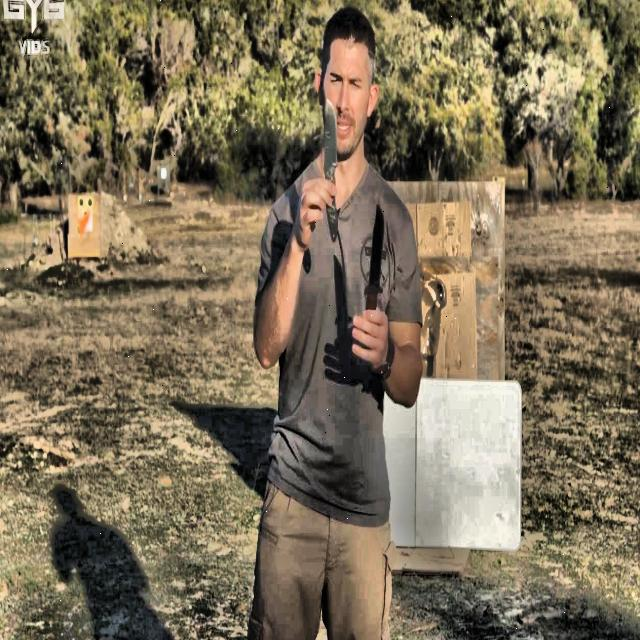knife: (324, 100, 339, 241), (366, 210, 384, 314)
